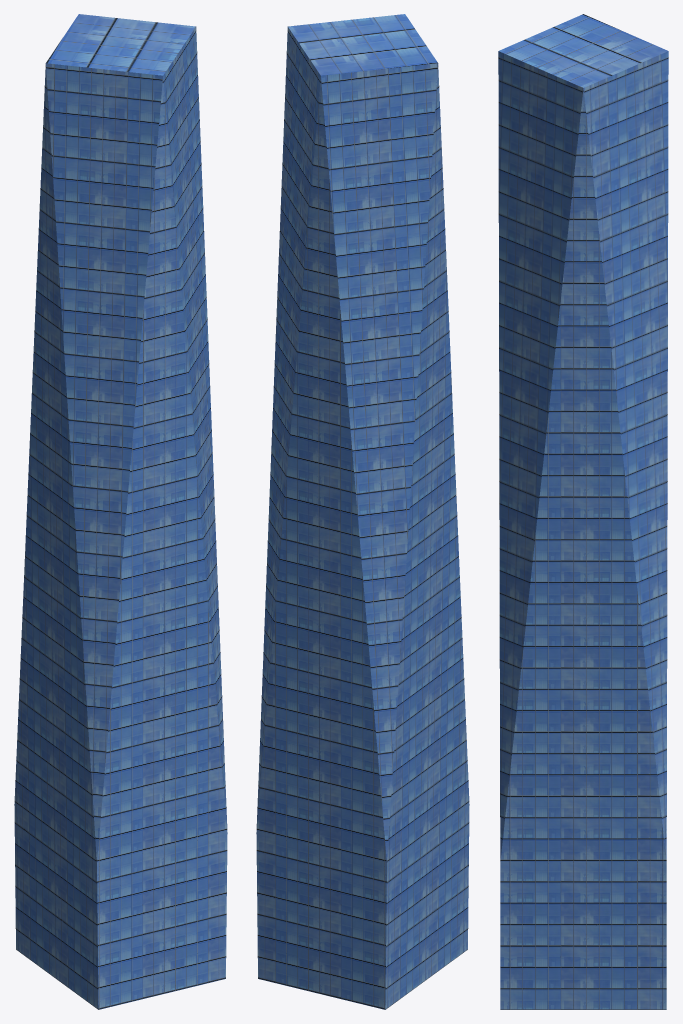
3 renders of one model, left to right at view 1: azimuth 30°, elevation 25°; view 2: azimuth 150°, elevation 25°; view 3: azimuth 270°, elevation 25°, orthographic.
Parts seen in each view (by area): view 1: tower_one; view 2: tower_one; view 3: tower_one.
Boxes of the visible parts, bbox=[...] form: tower_one: bbox=[14, 14, 227, 1009]; tower_one: bbox=[256, 14, 469, 1009]; tower_one: bbox=[498, 14, 668, 1009].
Bounding box in the file's own units: 26.39 × 154 × 25.61.
